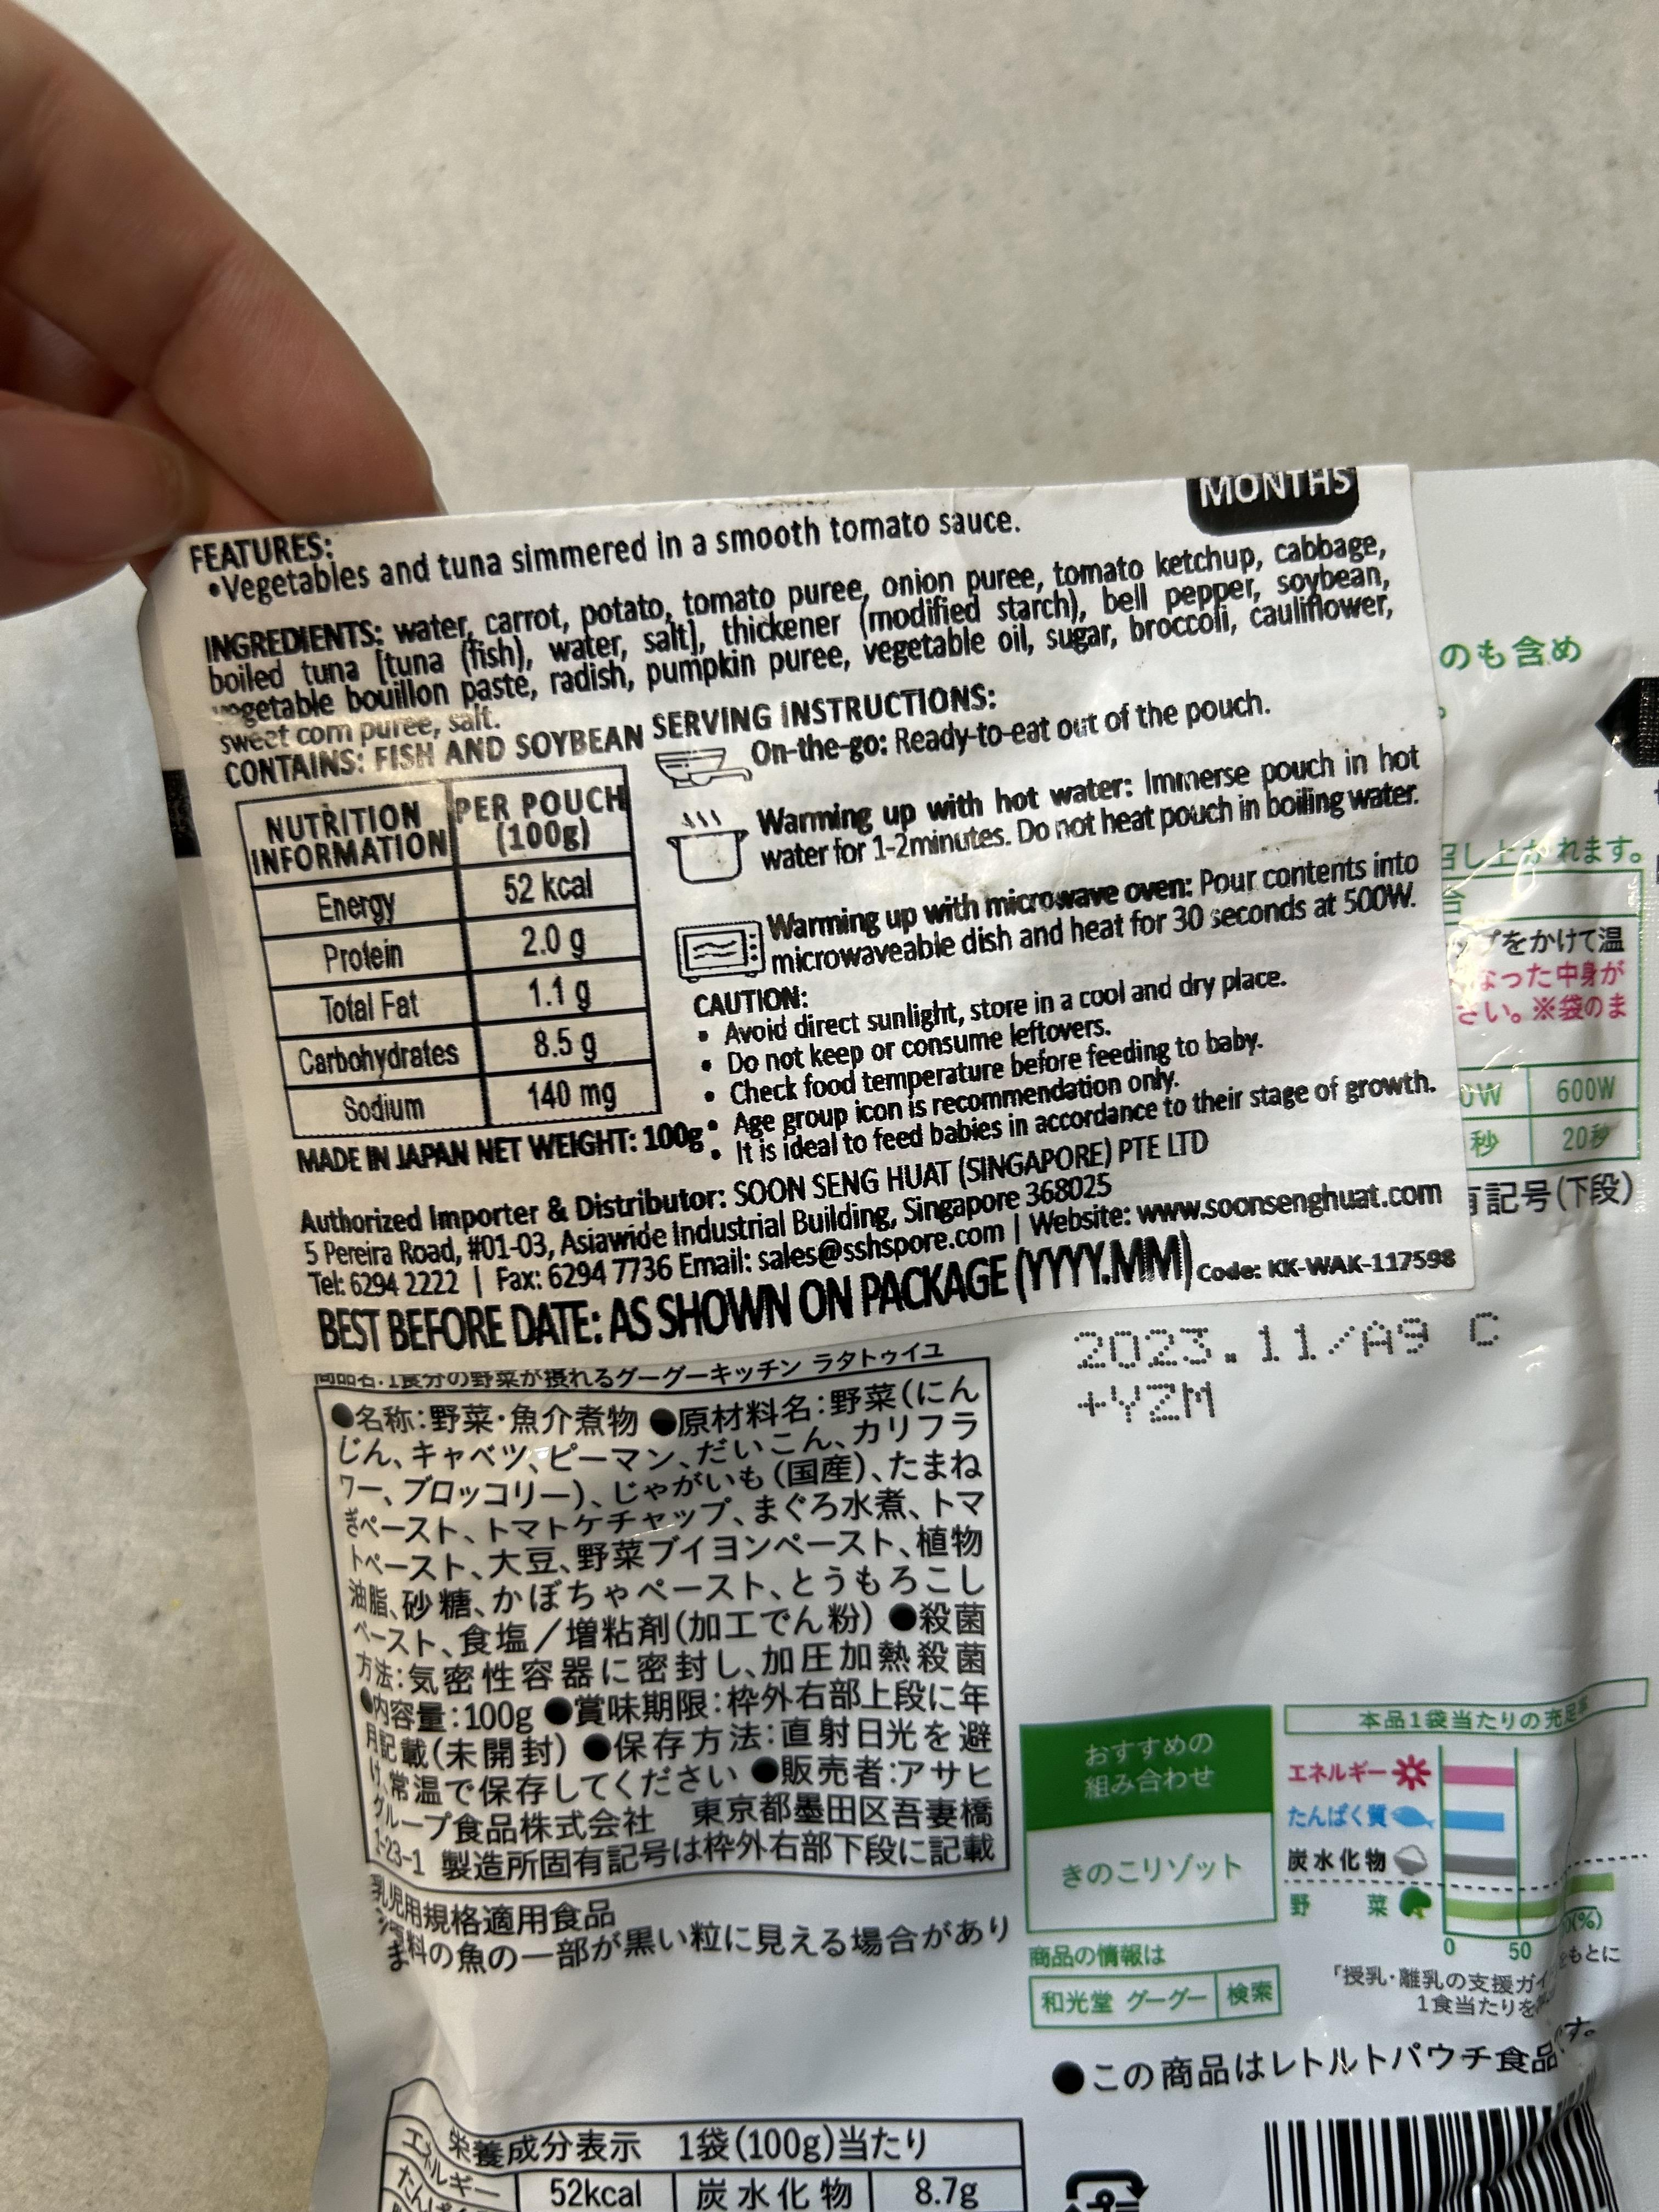object_name: (235, 552, 1638, 2207)
